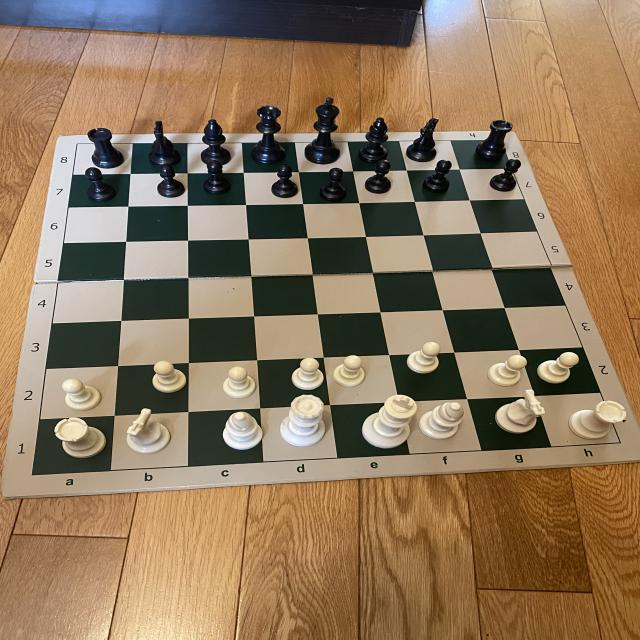Chessboard-Corners: (608, 434, 631, 452), (28, 465, 44, 481), (71, 141, 85, 148)
